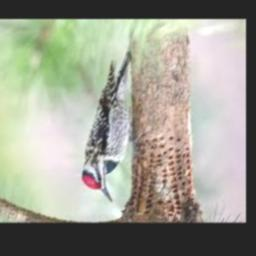Woodpecker: (83, 48, 133, 204)
